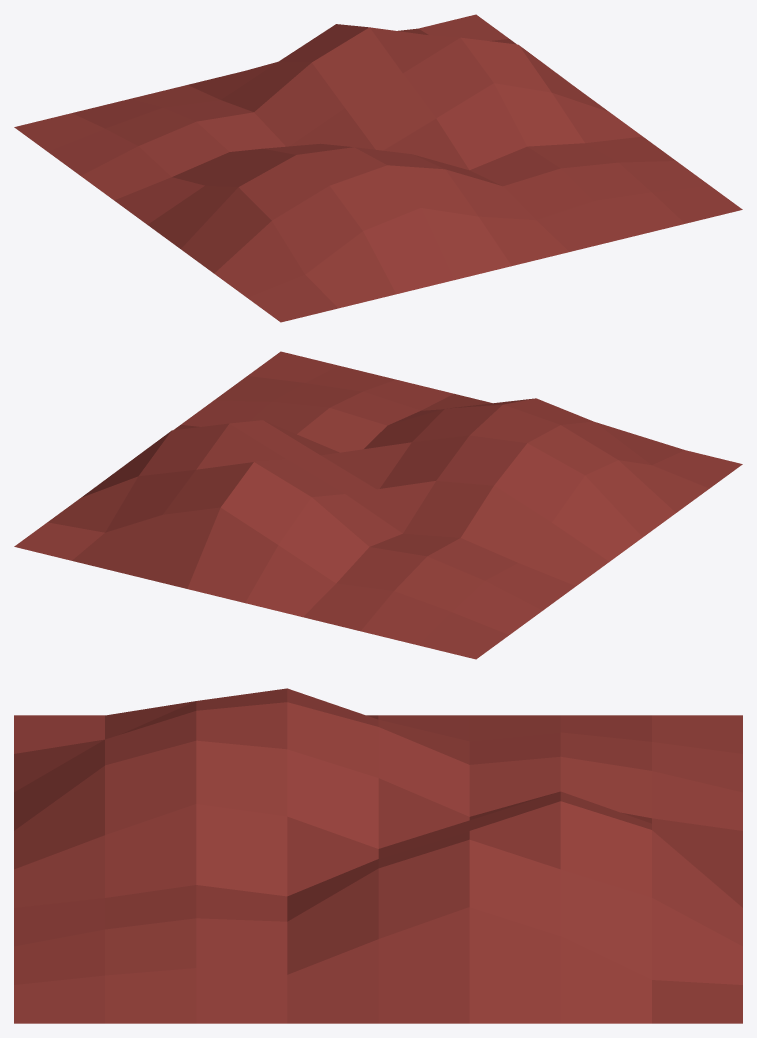
The model's file is Terrain_19_Red.fbx.
3 renders of one model, top to bottom at view 1: azimuth 30°, elevation 25°; view 2: azimuth 150°, elevation 25°; view 3: azimuth 270°, elevation 25°, orthographic. The views are drawn at different scales.
Parts seen in each view (by area): view 1: Terrain_19_Red; view 2: Terrain_19_Red; view 3: Terrain_19_Red.
Boxes of the visible parts, x1=… form: Terrain_19_Red: x1=14, y1=14, x2=742, y2=322; Terrain_19_Red: x1=14, y1=351, x2=742, y2=659; Terrain_19_Red: x1=14, y1=688, x2=742, y2=1023.
Size of the model in its own units: 8000 by 1294 by 8000.
